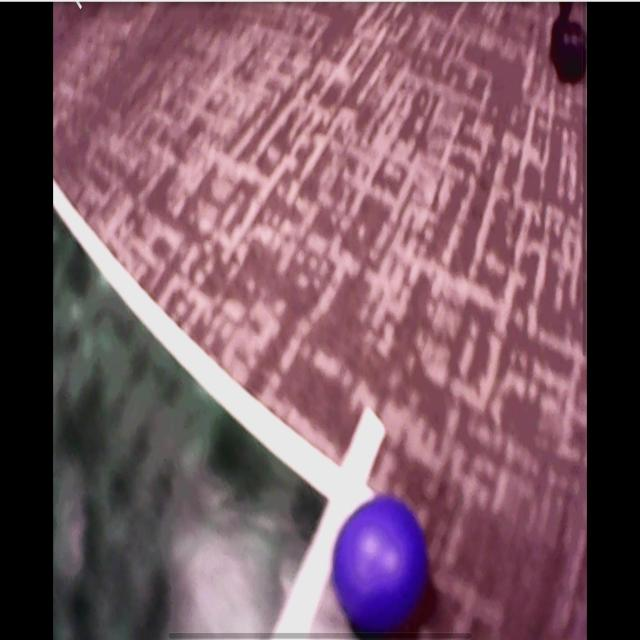ball: (335, 496, 425, 632)
